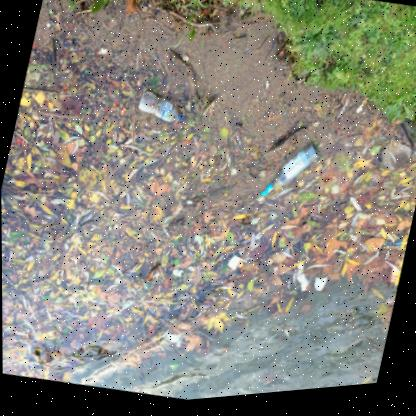Plastic: (260, 147, 319, 201), (137, 92, 181, 124), (383, 266, 401, 293), (383, 248, 401, 255)
Waste: (313, 280, 327, 296)
